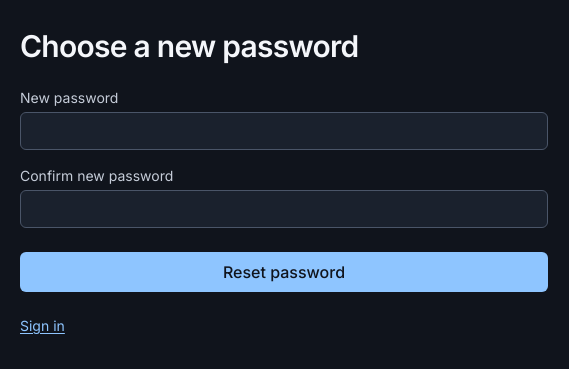
it: ResetPasswordForm › shows invalid token errors
Type "correct-horse-battery" into the password field labelled "New password" at (284, 131), box [20,112,548,150]
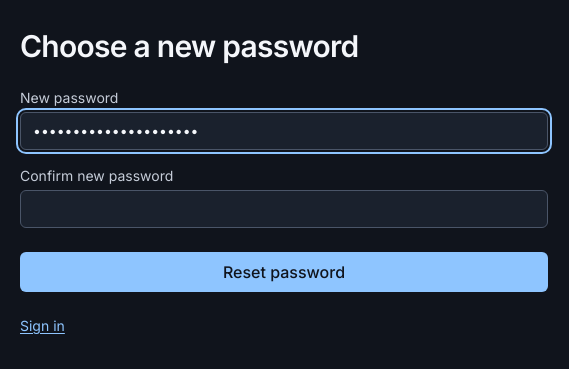
Type "correct-horse-battery" into the password field labelled "Confirm new password" at (284, 209), box [20,190,548,228]
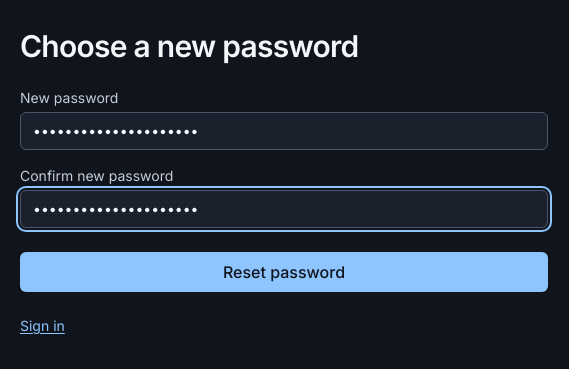
Click the button "Reset password" at (284, 272), box [20,252,548,292]
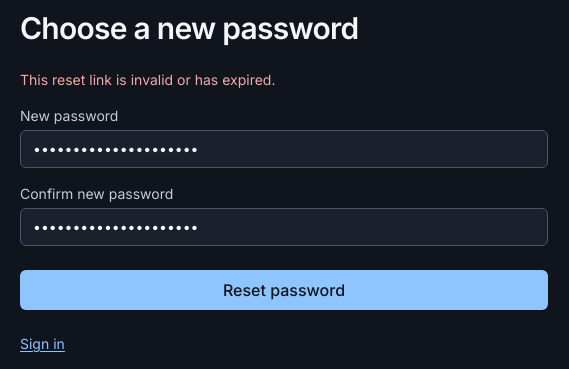
expect the message reads "This reset link is invalid or has expired.": met, box [20,71,275,88]
